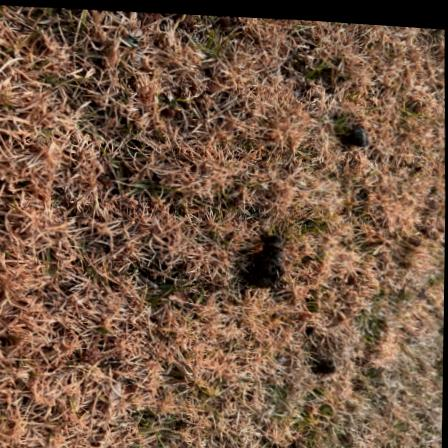dog-poop: (246, 227, 289, 284), (337, 114, 373, 143)
